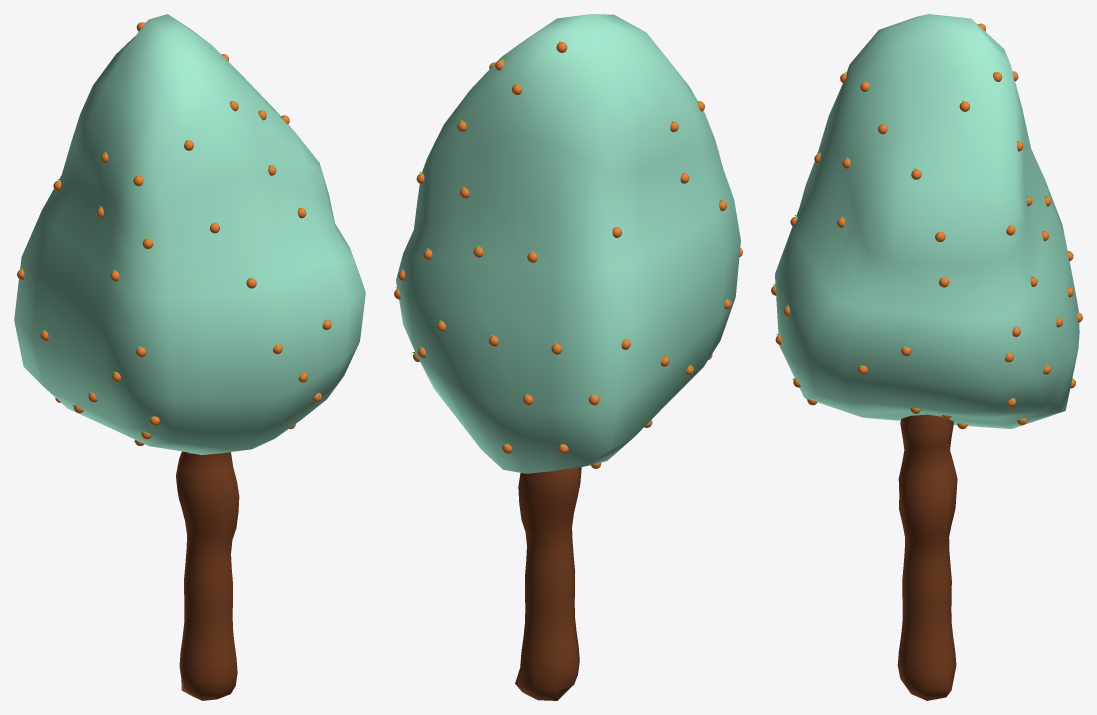
The picture shows the model from 3 angles, left to right: view 1: azimuth 30°, elevation 25°; view 2: azimuth 150°, elevation 25°; view 3: azimuth 270°, elevation 25°; orthographic projection. The views are drawn at different scales.
Parts seen in each view (by area): view 1: BUSH ONE.005, Tree.005; view 2: BUSH ONE.005, Tree.005; view 3: BUSH ONE.005, Tree.005.
Boxes of the visible parts, x1=… form: BUSH ONE.005: x1=14, y1=14, x2=365, y2=454; Tree.005: x1=176, y1=451, x2=239, y2=700; BUSH ONE.005: x1=396, y1=14, x2=740, y2=473; Tree.005: x1=515, y1=467, x2=581, y2=700; BUSH ONE.005: x1=775, y1=14, x2=1079, y2=428; Tree.005: x1=897, y1=414, x2=957, y2=700.
Bounding box in the file's own units: 1260 × 2945 × 1202.
